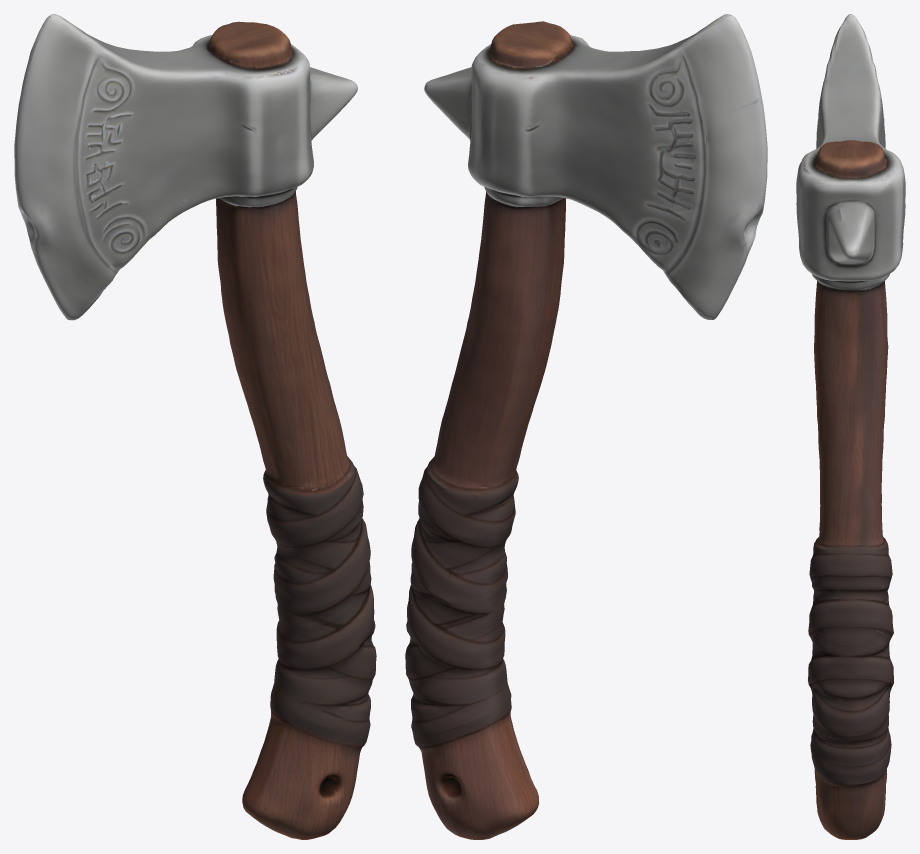
The model's file is Meshy_AI_Axe_0325161636_texture.fbx.
3 views of the same model, side by side, from view 1: azimuth 30°, elevation 25°; view 2: azimuth 150°, elevation 25°; view 3: azimuth 270°, elevation 25° (orthographic). The views are drawn at different scales.
Parts seen in each view (by area): view 1: Mesh0; view 2: Mesh0; view 3: Mesh0.
Part boxes in pixels (<box>): Mesh0: <box>14,14,376,839</box>; Mesh0: <box>405,14,767,839</box>; Mesh0: <box>796,14,905,839</box>.
Size of the model in its own units: 80.89 by 191 by 26.46.
Materials: 1 (1 with a texture image).
